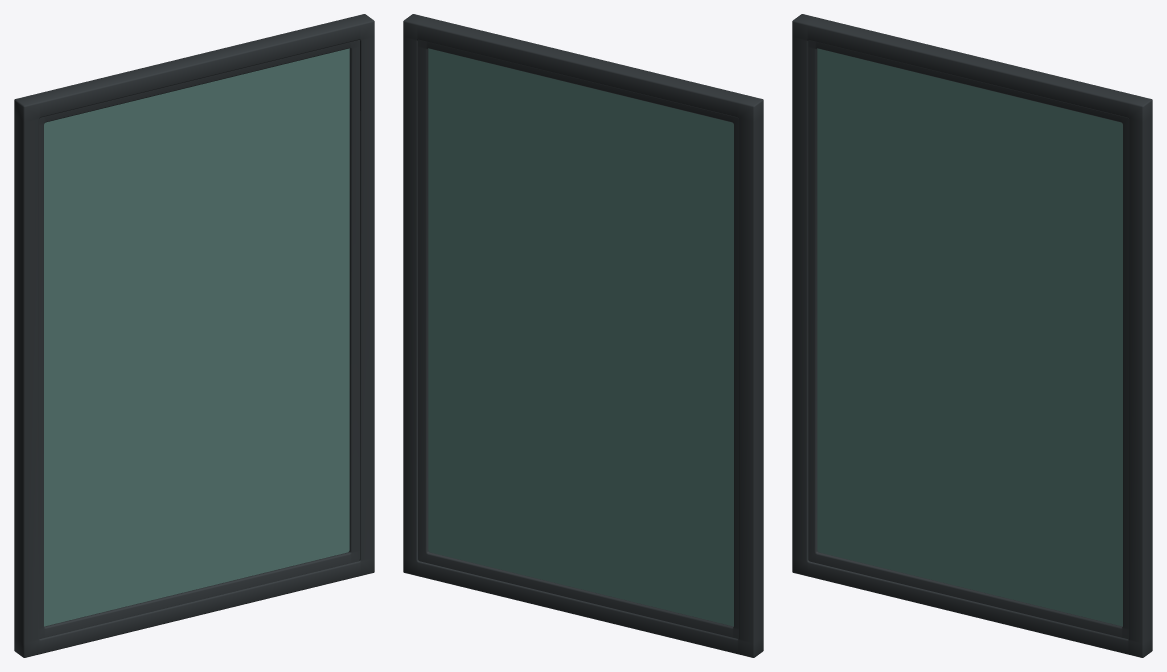
The model's file is SM_Window1.FBX.
3 renders of one model, left to right at view 1: azimuth 30°, elevation 25°; view 2: azimuth 150°, elevation 25°; view 3: azimuth 330°, elevation 25°, orthographic.
Visible parts, largest first — view 1: SM_Window1_LOD0; view 2: SM_Window1_LOD0; view 3: SM_Window1_LOD0.
Part boxes in pixels (<box>): SM_Window1_LOD0: <box>14,14,374,657</box>; SM_Window1_LOD0: <box>403,14,763,657</box>; SM_Window1_LOD0: <box>792,14,1152,657</box>.
Size of what is drawn, in the model's own units: 141 by 7.08 by 212.
